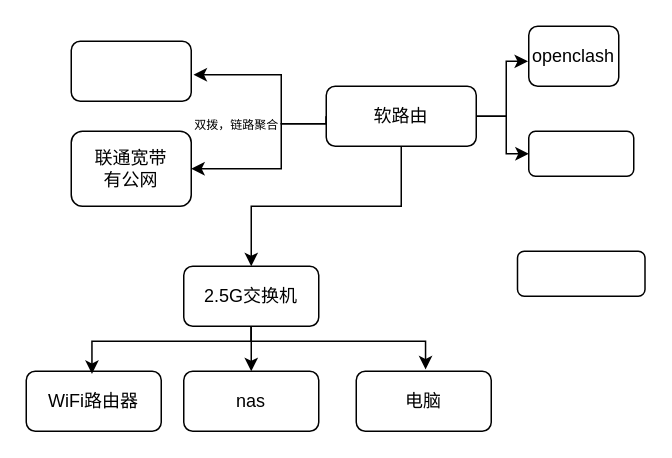
The diagram is 672 pixels wide and 458 high, and some of its shapes have lost their labels. The shapes that lost their labels are listed below. From the top down, each one's box as (x1, y1, x2, y2) in pixels, then its label:
(70, 40, 191, 101): 移动宽带 无公网
(527, 130, 634, 176): ad
(516, 250, 645, 296): pcdn
